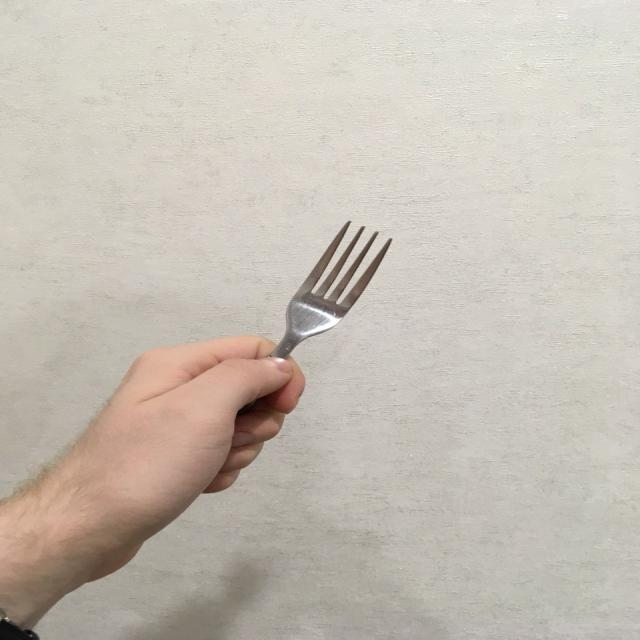fork: (200, 215, 400, 481)
